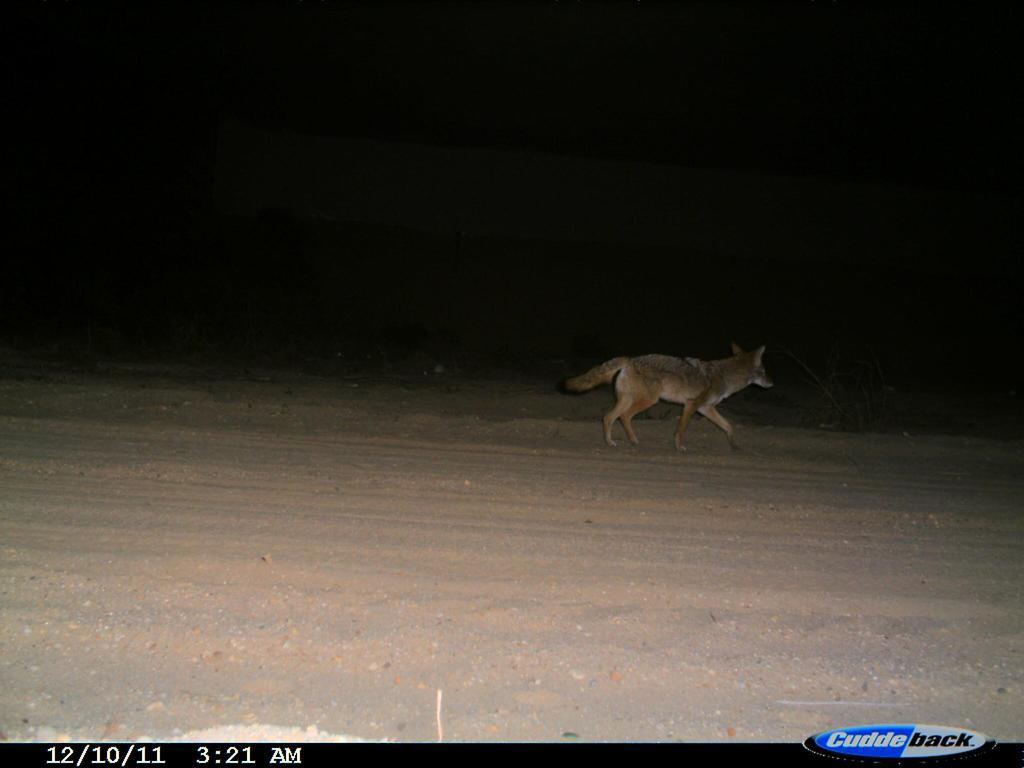coyote: (557, 340, 783, 460)
